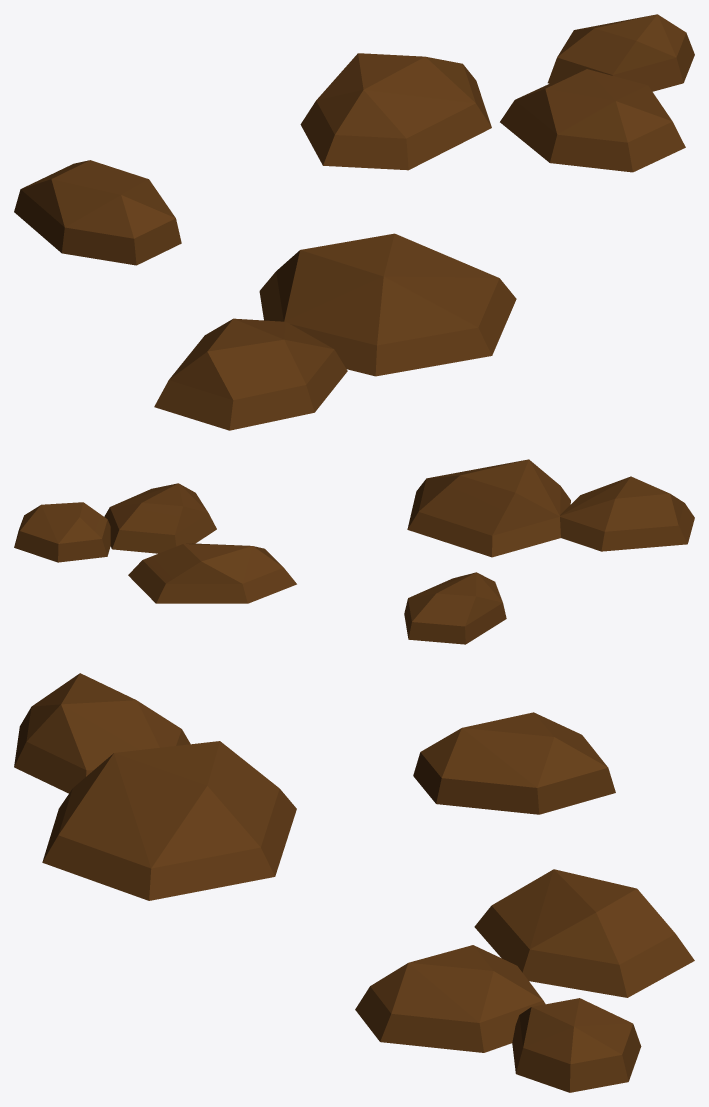
The model's file is rock__pebbles4_dirt_dark.glb.
3 views of the same model, one above another, from view 1: azimuth 30°, elevation 25°; view 2: azimuth 150°, elevation 25°; view 3: azimuth 270°, elevation 25° (orthographic). The views are drawn at different scales.
Parts seen in each view (by area): view 1: pebbles4.dirt.dark; view 2: pebbles4.dirt.dark; view 3: pebbles4.dirt.dark.
Part boxes in pixels (box(x1,y1,x2,y2)): pebbles4.dirt.dark: box(14, 14, 694, 430); pebbles4.dirt.dark: box(14, 459, 694, 644); pebbles4.dirt.dark: box(14, 673, 694, 1092).
Bounding box in the file's own units: 2.21 × 0.1985 × 1.67.
Materials: 1 (1 with a texture image).
